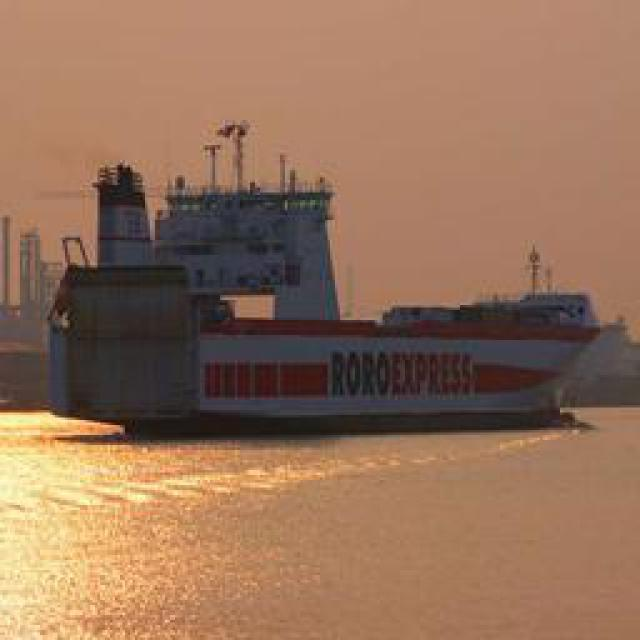Ship: (31, 253, 616, 438)
